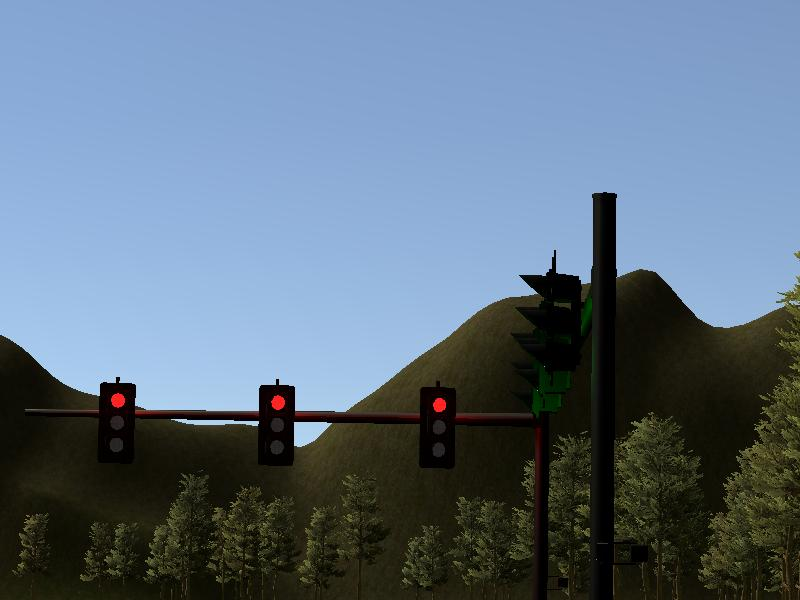Red: (421, 387, 455, 469), (102, 382, 135, 464), (260, 385, 293, 464)
